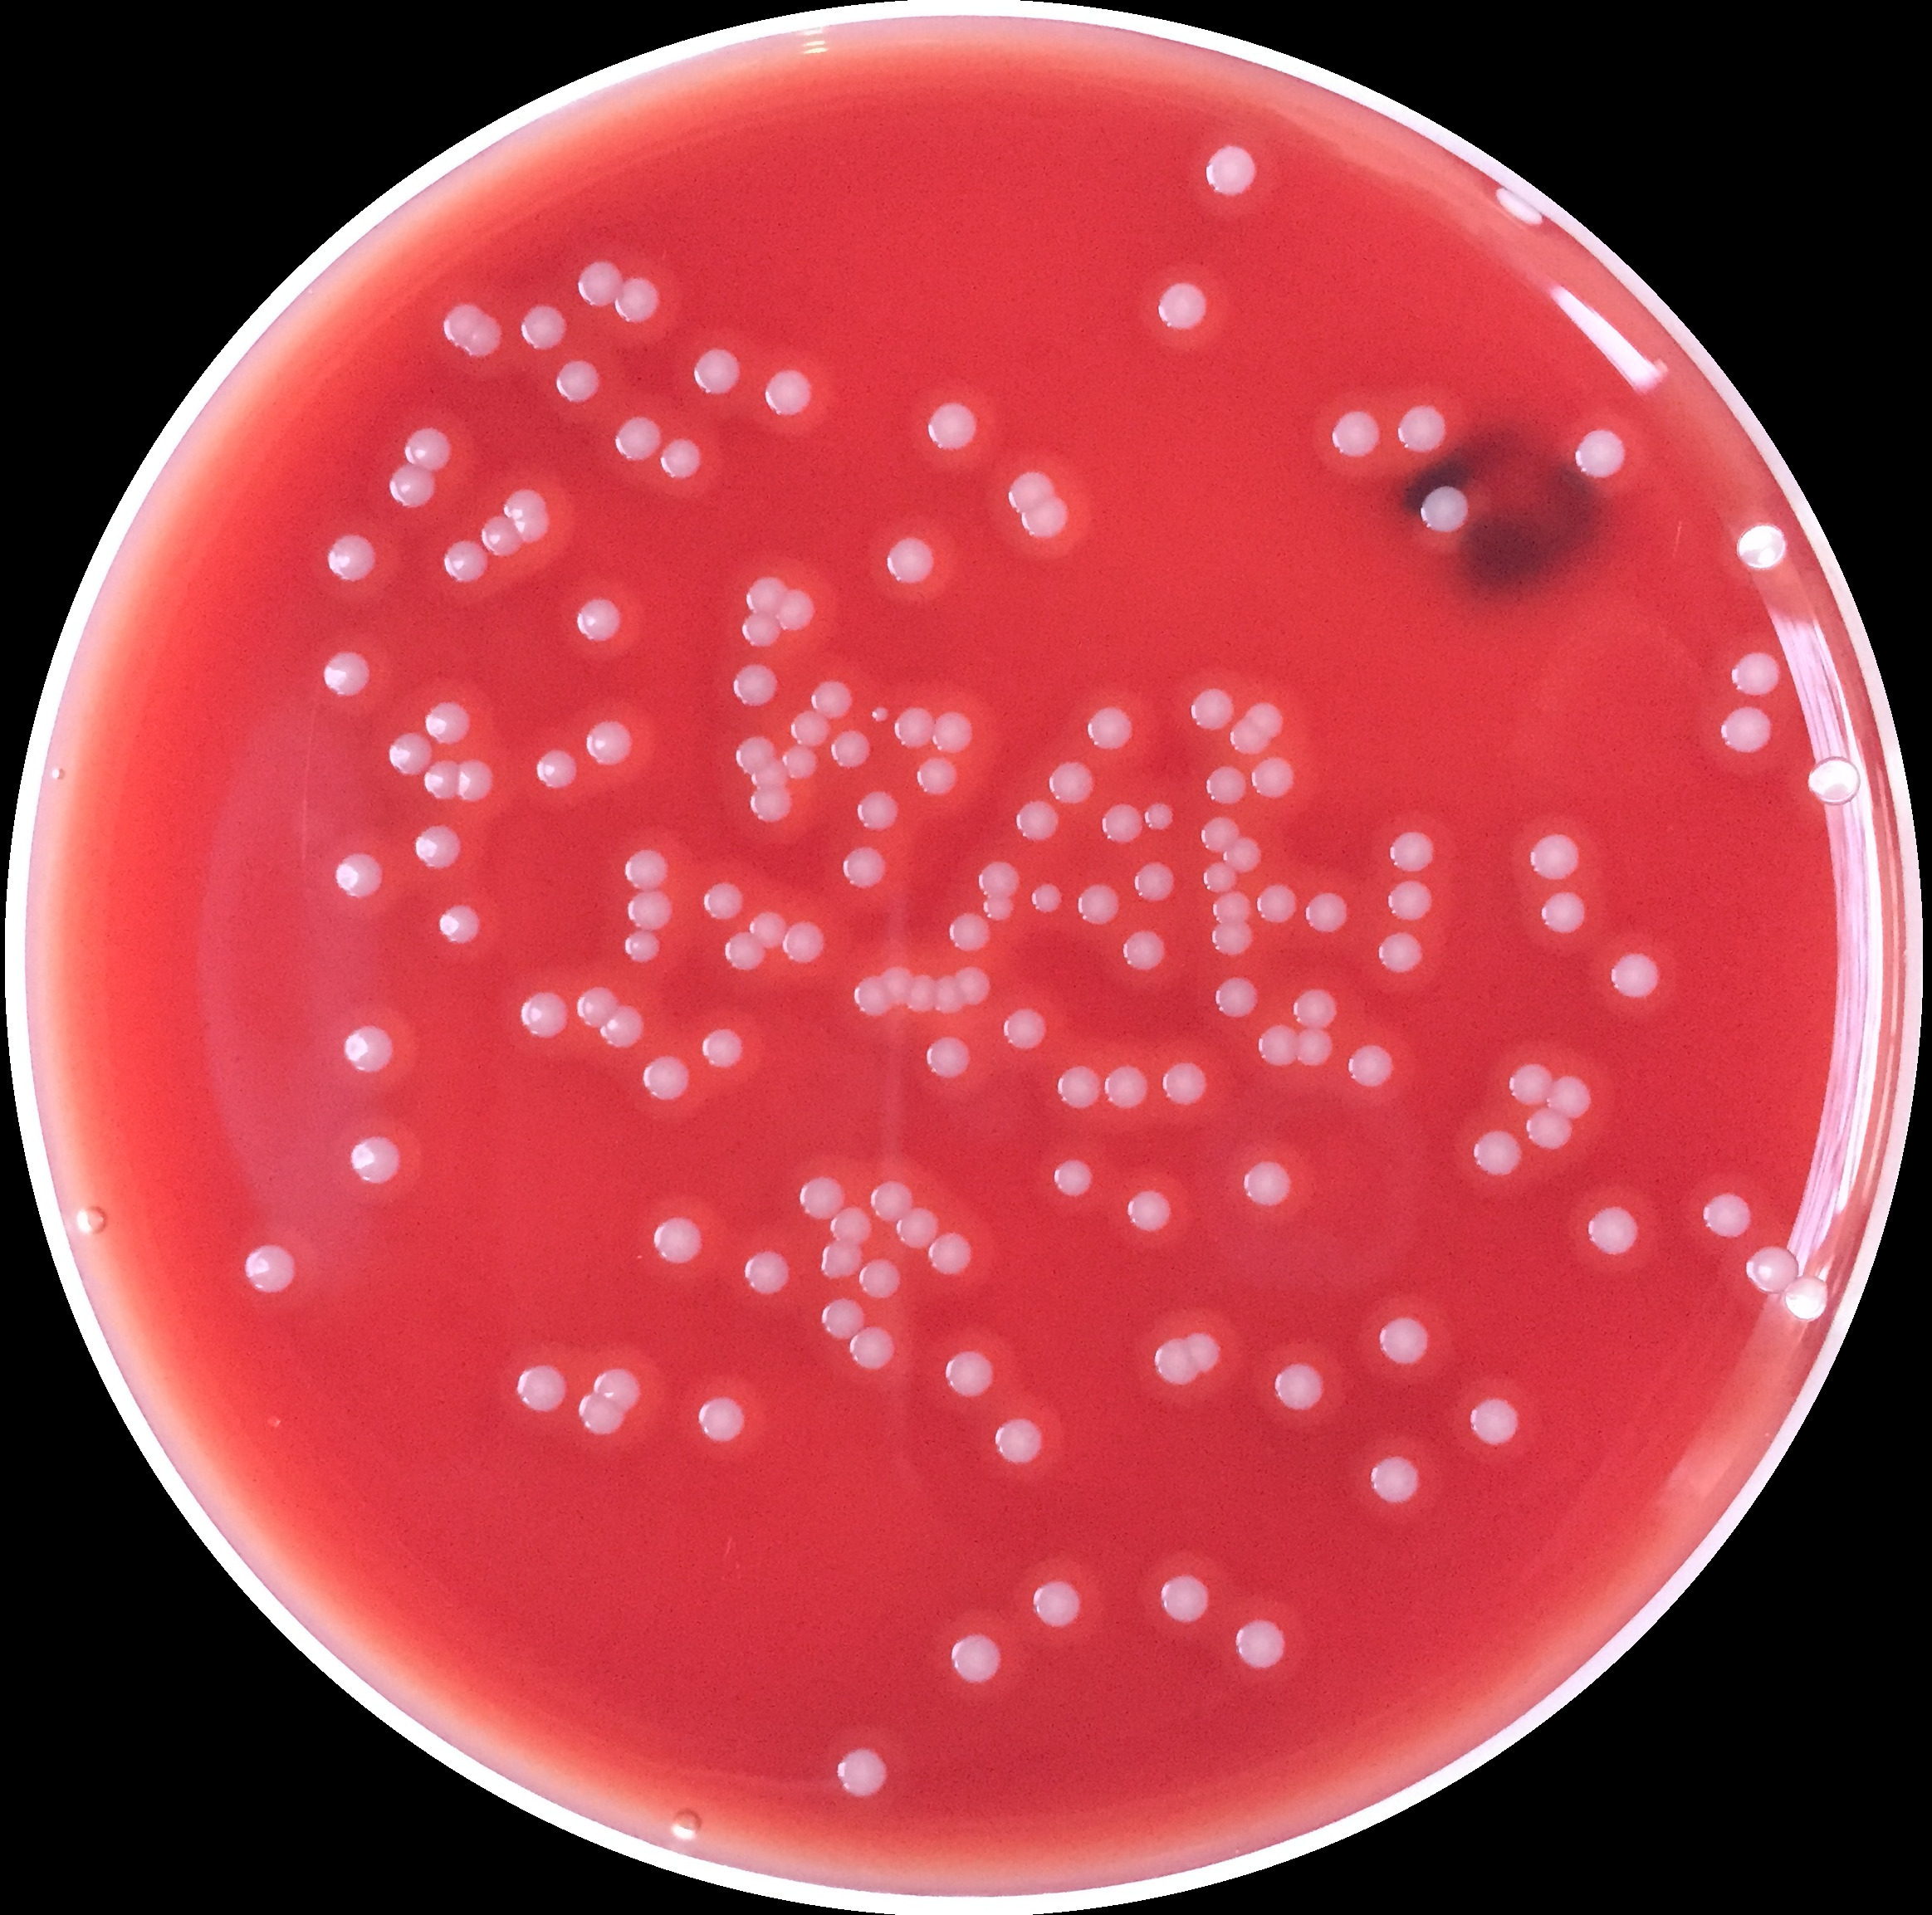sp21: (1467, 1126, 1535, 1184), (1714, 701, 1781, 759), (1586, 1200, 1646, 1261), (1151, 277, 1211, 337), (242, 1242, 302, 1301), (1572, 423, 1630, 484), (1155, 1570, 1213, 1629), (1699, 1187, 1760, 1243), (1232, 1617, 1293, 1673), (830, 1748, 893, 1803), (326, 851, 391, 903), (1804, 752, 1864, 808), (1374, 1313, 1432, 1370), (318, 647, 376, 703), (1730, 517, 1788, 573), (944, 1631, 1004, 1685), (1030, 1578, 1091, 1631), (648, 1214, 711, 1264), (1393, 402, 1449, 458), (1418, 482, 1474, 538), (1367, 1450, 1423, 1506), (923, 1228, 979, 1284), (1328, 405, 1383, 463), (1527, 829, 1585, 884), (1744, 1243, 1802, 1298), (1270, 1361, 1330, 1413), (1607, 947, 1662, 1003), (325, 530, 381, 584), (691, 345, 748, 400), (637, 1052, 695, 1105), (514, 303, 572, 356), (1488, 184, 1548, 235), (1235, 1156, 1295, 1207), (988, 1415, 1049, 1464), (547, 358, 609, 407), (1204, 140, 1260, 193), (925, 402, 981, 454), (846, 1322, 898, 1378), (462, 310, 514, 367), (516, 991, 574, 1042), (1469, 1394, 1523, 1447), (570, 594, 625, 647), (763, 368, 818, 421), (1520, 1105, 1578, 1154), (574, 258, 626, 310), (400, 424, 453, 477), (342, 1022, 395, 1075), (1728, 647, 1783, 698), (1386, 824, 1441, 875), (384, 463, 439, 514), (741, 1249, 797, 1298), (514, 1363, 570, 1412), (1241, 700, 1299, 747), (1376, 928, 1427, 980), (730, 661, 781, 714), (1537, 887, 1592, 936), (942, 1350, 997, 1399), (883, 537, 937, 586), (611, 412, 665, 461), (346, 1136, 400, 1185), (890, 1201, 942, 1250), (841, 844, 893, 893), (416, 752, 465, 805), (1209, 973, 1263, 1021), (1155, 1059, 1209, 1107), (1100, 1061, 1155, 1108), (695, 1026, 749, 1073), (581, 719, 635, 766), (419, 700, 474, 747), (440, 537, 495, 584), (918, 1036, 974, 1082), (1542, 1073, 1593, 1122), (1125, 1187, 1174, 1238), (695, 1394, 746, 1443), (1048, 759, 1098, 808), (476, 512, 528, 559), (1004, 468, 1058, 514), (1120, 928, 1174, 973), (795, 1175, 849, 1221), (1016, 496, 1072, 540), (588, 1368, 644, 1412), (1385, 877, 1434, 926), (1783, 1271, 1832, 1321), (1253, 879, 1304, 926), (532, 747, 583, 794), (972, 858, 1025, 903), (1149, 1335, 1195, 1387), (623, 887, 676, 933), (1083, 705, 1135, 751), (595, 1005, 649, 1049), (1300, 891, 1349, 938), (698, 879, 748, 926), (1011, 796, 1060, 844), (614, 274, 663, 321), (1186, 686, 1237, 731), (1055, 1061, 1100, 1112), (867, 1177, 918, 1222), (433, 903, 484, 949), (890, 701, 935, 752), (1070, 882, 1123, 926), (572, 1394, 626, 1436), (1290, 1024, 1337, 1071), (414, 822, 462, 870), (930, 708, 977, 756), (1249, 756, 1299, 801), (1048, 1156, 1097, 1201), (818, 1296, 867, 1342), (742, 575, 791, 621), (1100, 798, 1149, 844), (730, 731, 779, 777), (656, 437, 705, 482), (1346, 1043, 1397, 1087), (621, 847, 672, 891), (828, 728, 879, 772), (386, 731, 437, 775), (1130, 859, 1177, 905), (818, 1236, 865, 1282), (855, 1254, 900, 1301), (576, 986, 623, 1031), (774, 587, 819, 635), (914, 751, 960, 798), (1256, 1021, 1299, 1071), (823, 1203, 874, 1245), (851, 793, 902, 835), (1504, 1061, 1551, 1105), (440, 303, 484, 351), (1223, 721, 1272, 763), (784, 707, 834, 749), (497, 486, 551, 523), (1211, 917, 1256, 961), (998, 1007, 1044, 1050), (1290, 987, 1337, 1029), (948, 908, 993, 950), (1204, 765, 1251, 805), (619, 928, 667, 968), (719, 931, 767, 972), (1183, 1326, 1221, 1375), (849, 977, 895, 1017), (777, 745, 825, 784), (456, 756, 495, 803), (1197, 812, 1241, 852), (876, 963, 914, 1008), (786, 919, 825, 965), (749, 787, 795, 826), (953, 965, 993, 1007), (742, 908, 784, 947), (1223, 836, 1267, 873), (1209, 887, 1253, 924), (904, 973, 941, 1017), (737, 612, 781, 649), (811, 677, 849, 715), (512, 509, 553, 545), (930, 973, 963, 1014), (974, 893, 1018, 922), (1027, 882, 1067, 914), (1141, 801, 1177, 835), (1202, 861, 1237, 894), (749, 765, 788, 794), (869, 703, 893, 724)
